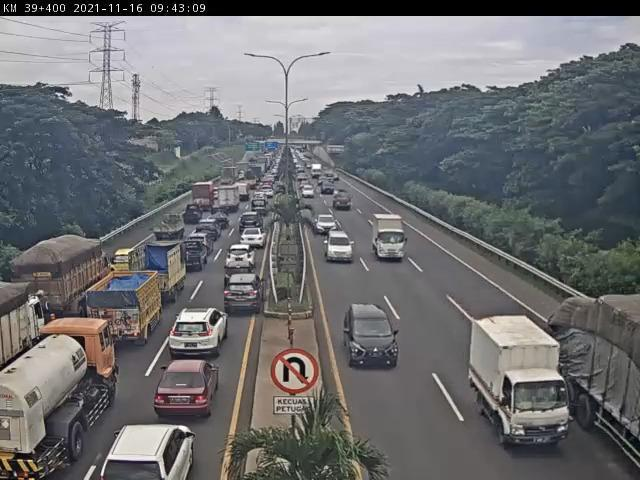car: (99, 425, 195, 480), (157, 359, 221, 419), (345, 304, 402, 370), (172, 308, 230, 358), (227, 275, 268, 316), (324, 231, 356, 263), (228, 246, 259, 273), (242, 230, 269, 249), (197, 220, 223, 239), (240, 214, 264, 233), (113, 251, 134, 272), (210, 209, 230, 230), (316, 214, 338, 233), (192, 235, 215, 253), (184, 206, 203, 225), (251, 201, 268, 217), (323, 182, 336, 197), (304, 187, 316, 200), (255, 194, 269, 205), (261, 188, 274, 199)
truck: (1, 317, 117, 480), (554, 278, 640, 477), (469, 319, 570, 448), (13, 237, 111, 319), (90, 271, 165, 348), (1, 284, 45, 374), (130, 241, 189, 301), (374, 214, 409, 264), (183, 240, 209, 272), (153, 217, 183, 242), (193, 183, 215, 211), (218, 189, 240, 214), (332, 189, 354, 211), (221, 168, 239, 187), (234, 184, 250, 202)
